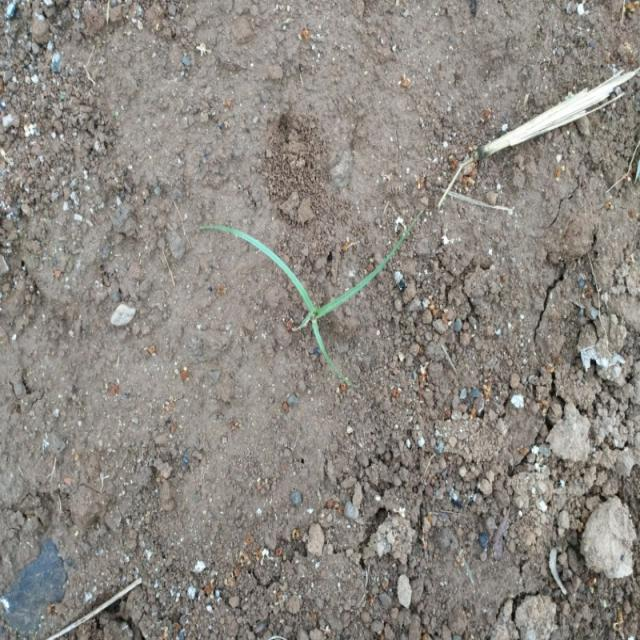sedge: (195, 191, 422, 398)
